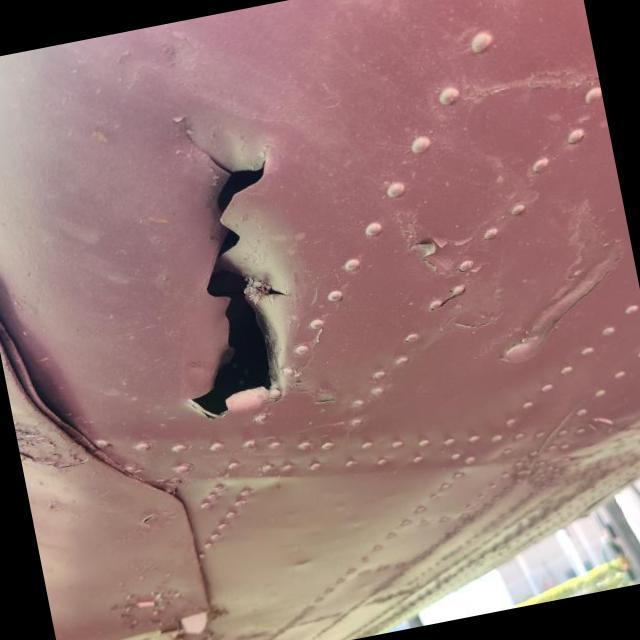Rupture: (123, 107, 340, 440)
